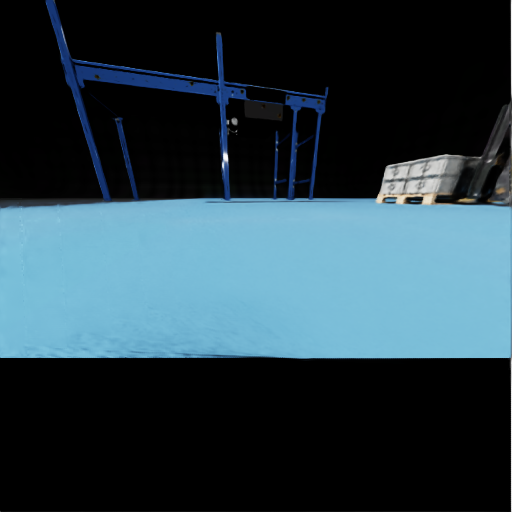transportation_area: (404, 175, 471, 193), (418, 176, 421, 187), (422, 163, 425, 174), (426, 157, 428, 161), (415, 192, 416, 196)
